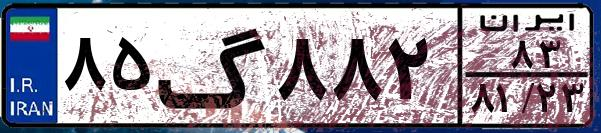1: (495, 70, 520, 125)
2: (385, 28, 445, 110), (535, 70, 560, 125)
3: (560, 70, 590, 125), (537, 27, 568, 80)
5: (110, 28, 156, 98)
8: (270, 28, 330, 110), (330, 28, 385, 110), (57, 26, 110, 100), (508, 27, 537, 80), (470, 70, 495, 125)
گ: (156, 12, 270, 120)
